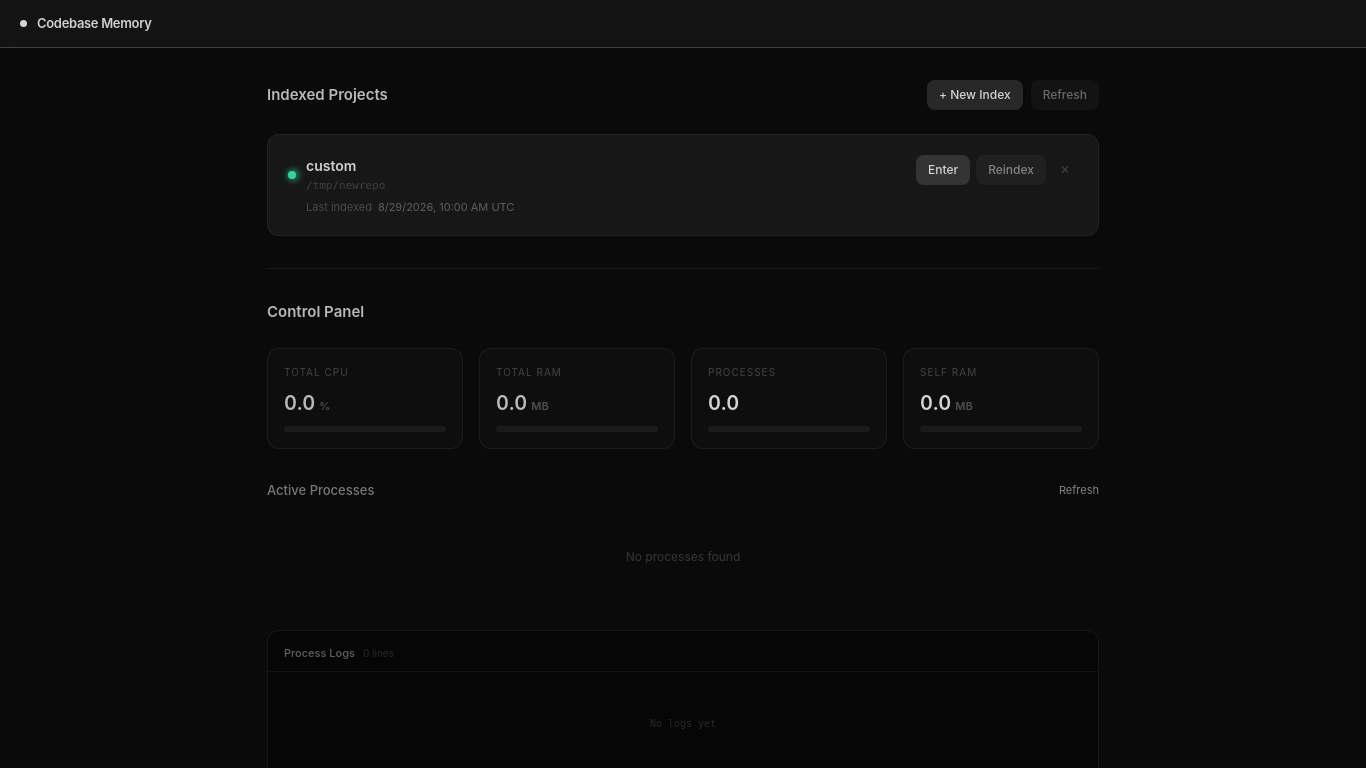
App routing + workspace › Reindex of a custom-named project keeps that name
This screenshot has width=1366, height=768.
Expected: the heading "custom" is shown, [306, 157, 356, 174]
Click the button "Reindex".
click(1011, 170)  # box [976, 155, 1046, 185]
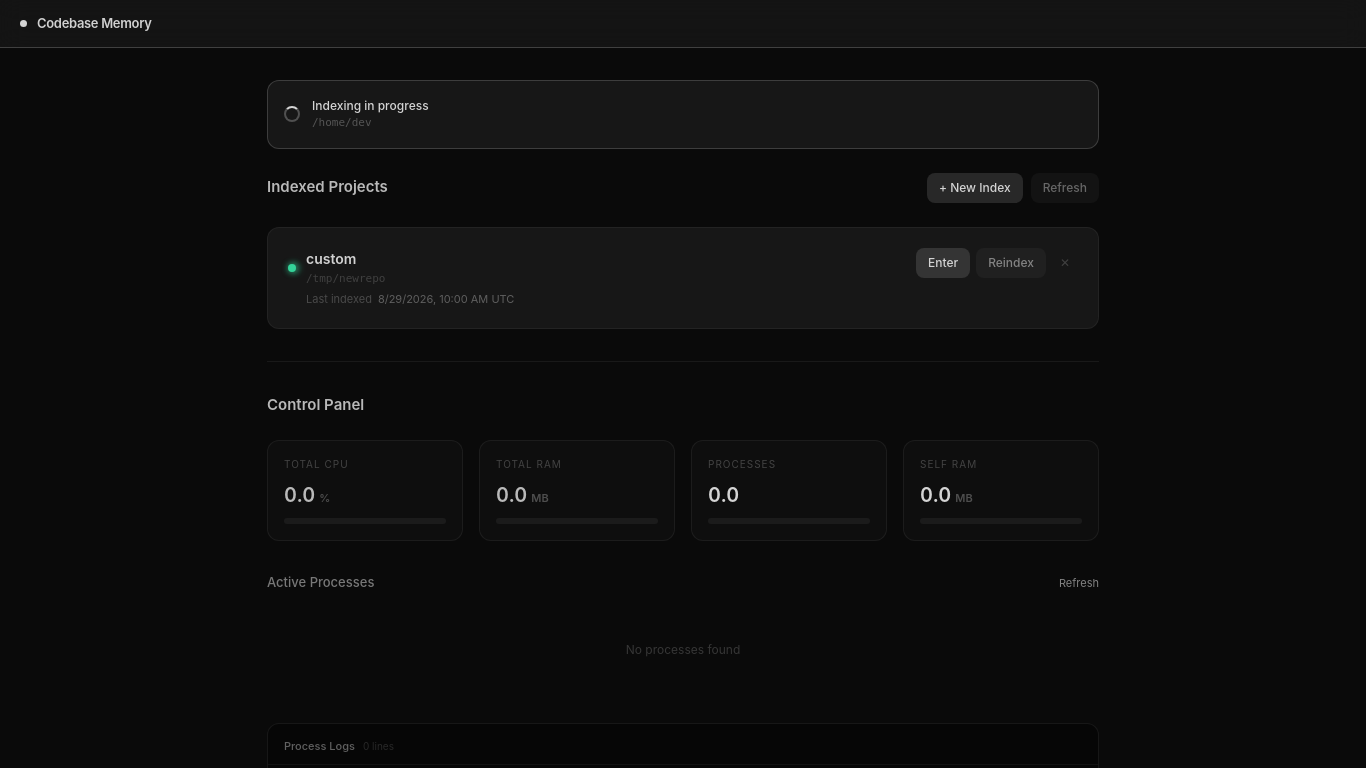
Expected: the heading "custom" is shown, [306, 250, 356, 266]
Expected: the text "Indexing in progress" is shown, [312, 97, 429, 115]
